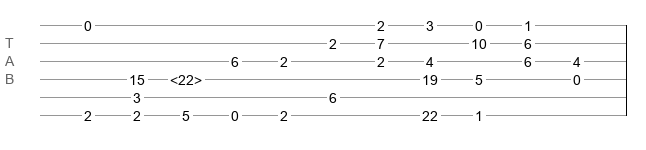0: (84, 18, 92, 28), (231, 108, 239, 118), (475, 18, 483, 28), (573, 72, 581, 82)
1: (475, 108, 483, 118), (524, 18, 532, 28)
10: (471, 36, 487, 46)
15: (129, 72, 145, 82)
19: (422, 72, 438, 82)
2: (84, 108, 92, 118), (133, 108, 141, 118), (280, 108, 288, 118), (280, 54, 288, 64), (329, 36, 337, 46), (377, 18, 385, 28), (377, 54, 385, 64)
22: (422, 108, 438, 118)
3: (133, 90, 141, 100), (426, 18, 434, 28)
4: (426, 54, 434, 64), (573, 54, 581, 64)
5: (182, 108, 190, 118), (475, 72, 483, 82)
6: (231, 54, 239, 64), (329, 90, 337, 100), (524, 36, 532, 46), (524, 54, 532, 64)
7: (377, 36, 385, 46)
harmonic: (170, 72, 202, 82)
